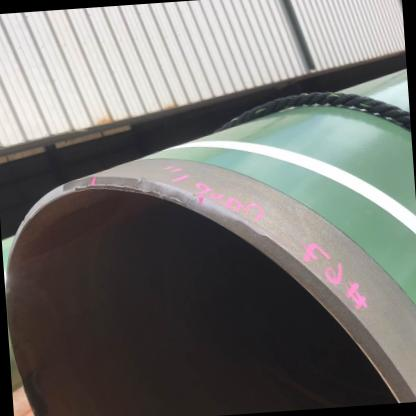Bevel: (125, 167, 191, 211)
